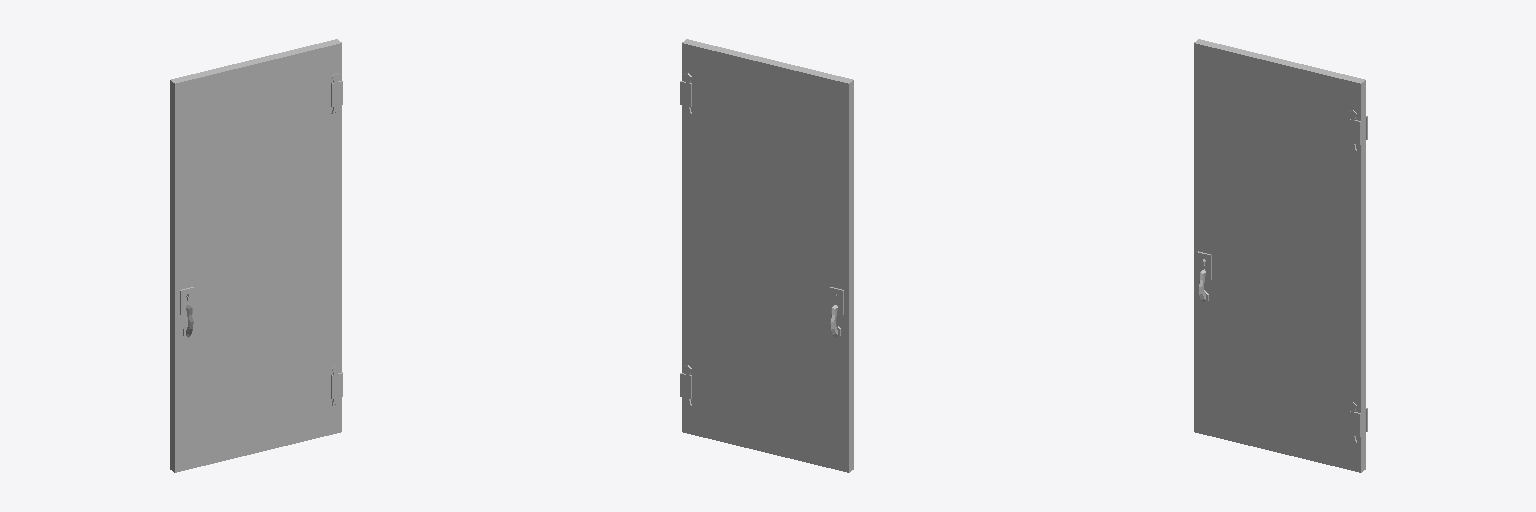
File: DoorWindow.obj
The picture shows the model from 3 angles: view 1: azimuth 30°, elevation 25°; view 2: azimuth 150°, elevation 25°; view 3: azimuth 330°, elevation 25°; orthographic projection.
Visible parts, largest first — view 1: Mesh1213 Mesh14 Back_door_obj Model, Mesh67 Mesh8 Back_door_obj Model, Mesh78 Mesh9 Back_door_obj Model; view 2: Mesh1213 Mesh14 Back_door_obj Model, Mesh67 Mesh8 Back_door_obj Model, Mesh78 Mesh9 Back_door_obj Model; view 3: Mesh1213 Mesh14 Back_door_obj Model, Mesh67 Mesh8 Back_door_obj Model, Mesh78 Mesh9 Back_door_obj Model.
Boxes of the visible parts, x1=… form: Mesh1213 Mesh14 Back_door_obj Model: x1=170, y1=39, x2=341, y2=472; Mesh67 Mesh8 Back_door_obj Model: x1=197, y1=261, x2=319, y2=435; Mesh78 Mesh9 Back_door_obj Model: x1=197, y1=79, x2=319, y2=254; Mesh1213 Mesh14 Back_door_obj Model: x1=682, y1=39, x2=853, y2=472; Mesh67 Mesh8 Back_door_obj Model: x1=704, y1=261, x2=826, y2=435; Mesh78 Mesh9 Back_door_obj Model: x1=704, y1=79, x2=826, y2=254; Mesh1213 Mesh14 Back_door_obj Model: x1=1194, y1=39, x2=1365, y2=472; Mesh67 Mesh8 Back_door_obj Model: x1=1216, y1=261, x2=1338, y2=435; Mesh78 Mesh9 Back_door_obj Model: x1=1216, y1=79, x2=1338, y2=254.
Size of the model in its own units: 0.9 by 2 by 0.17.